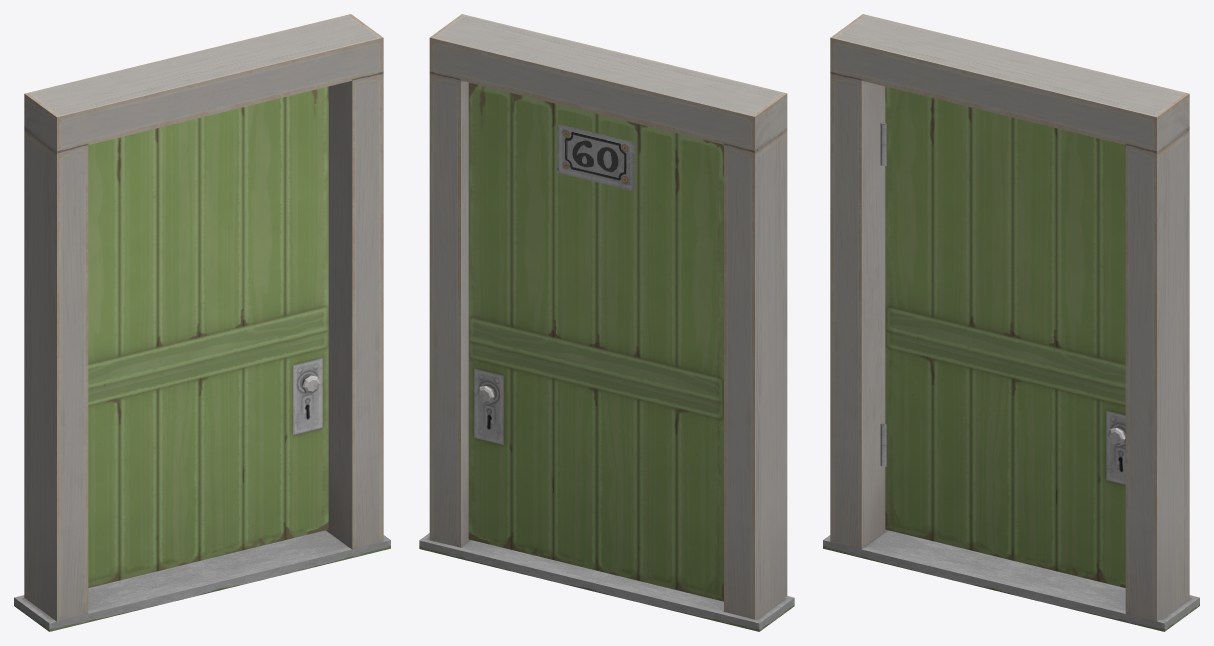
File: P_Door_027_S1_M01_xuzhang.obj
3 renders of one model, left to right at view 1: azimuth 30°, elevation 25°; view 2: azimuth 150°, elevation 25°; view 3: azimuth 330°, elevation 25°, orthographic.
Bounding box in the file's own units: 2.09 × 3 × 0.3756.
2 materials, 2 textured.
